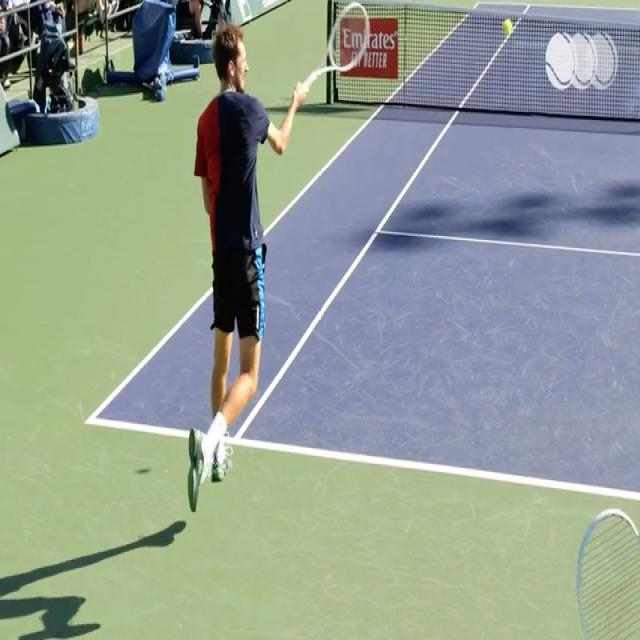forehand-stroke: (187, 1, 369, 518)
